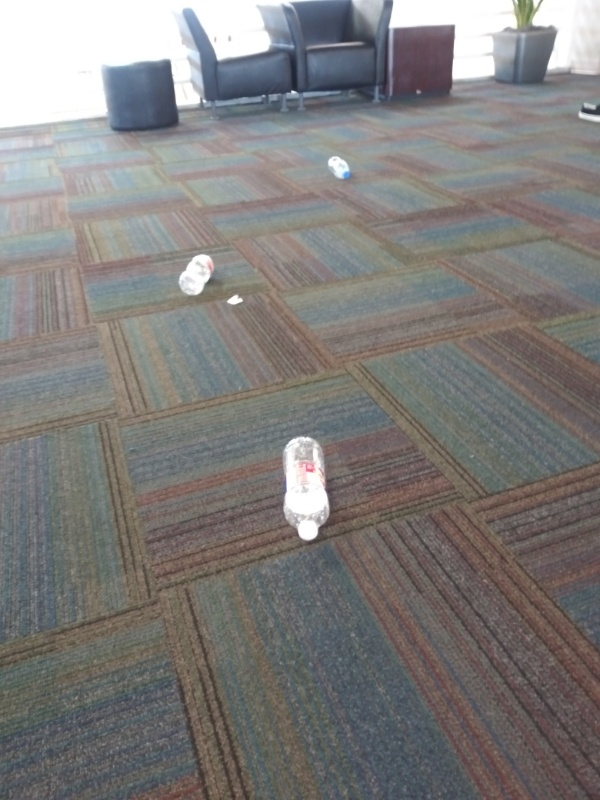bottle: (276, 431, 332, 543), (173, 250, 222, 298), (324, 151, 356, 182)
